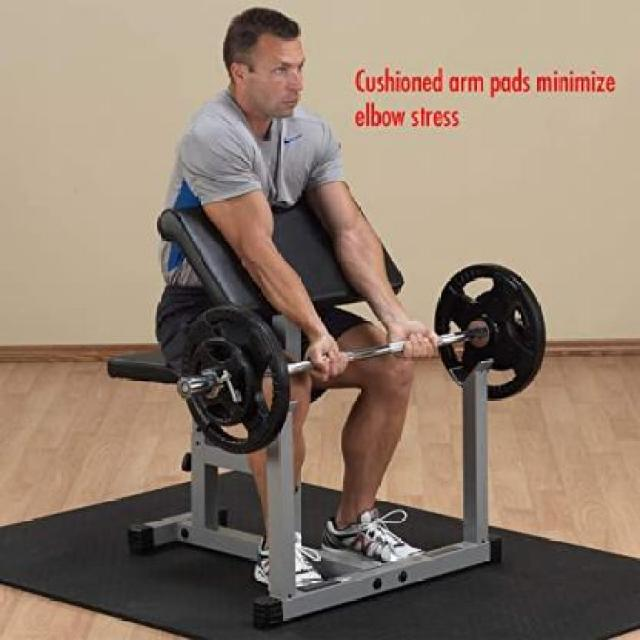arm curl machine: (108, 189, 548, 628)
